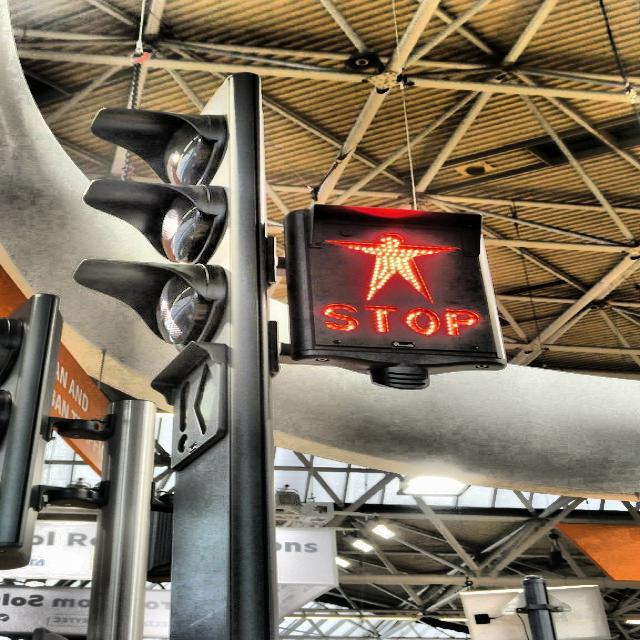red_light: (320, 230, 458, 303)
